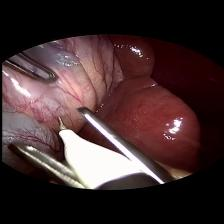Grasper: (5, 105, 175, 190), (1, 50, 61, 87)
Hook: (48, 114, 137, 189)
